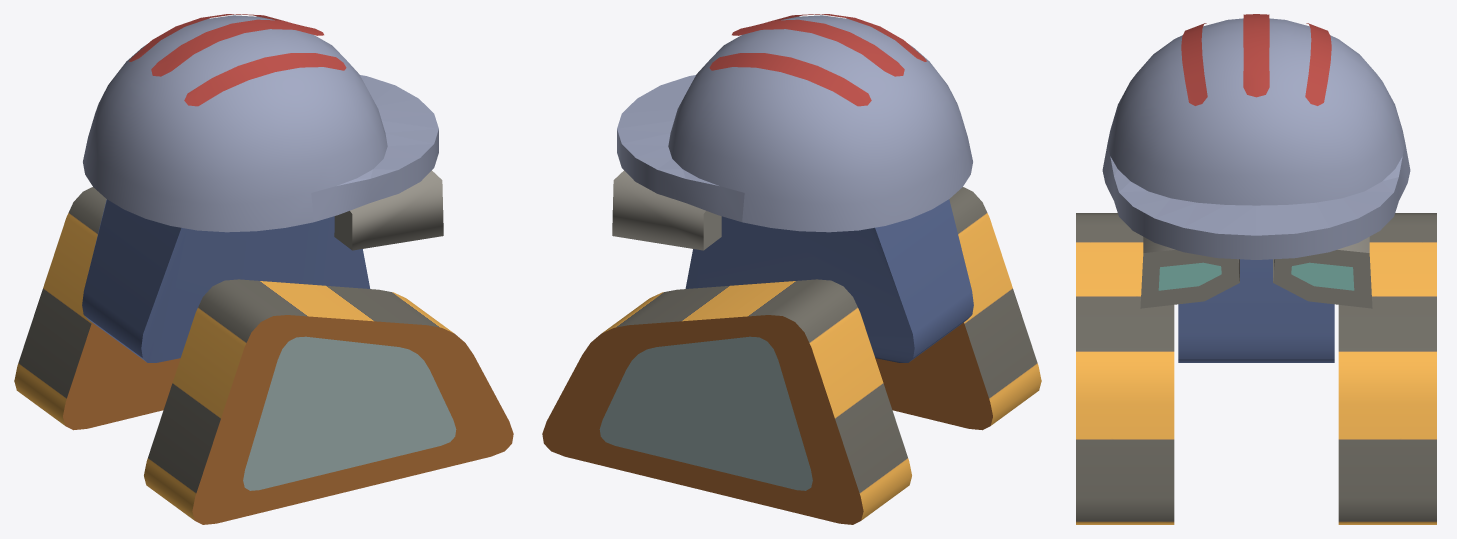
File: Character2.FBX
The picture shows the model from 3 angles, left to right: view 1: azimuth 30°, elevation 25°; view 2: azimuth 150°, elevation 25°; view 3: azimuth 270°, elevation 25°; orthographic projection.
Parts seen in each view (by area): view 1: Object002, CharacterTracks001; view 2: Object002, CharacterTracks001; view 3: Object002, CharacterTracks001.
Boxes of the visible parts, box(x1,y1,x2,y2) form: Object002: box(63, 14, 513, 524); CharacterTracks001: box(14, 187, 453, 520); Object002: box(542, 14, 992, 524); CharacterTracks001: box(602, 187, 1041, 520); Object002: box(1102, 14, 1410, 362); CharacterTracks001: box(1076, 213, 1436, 524).
Bounding box in the file's own units: 39.28 × 47.14 × 38.85.
